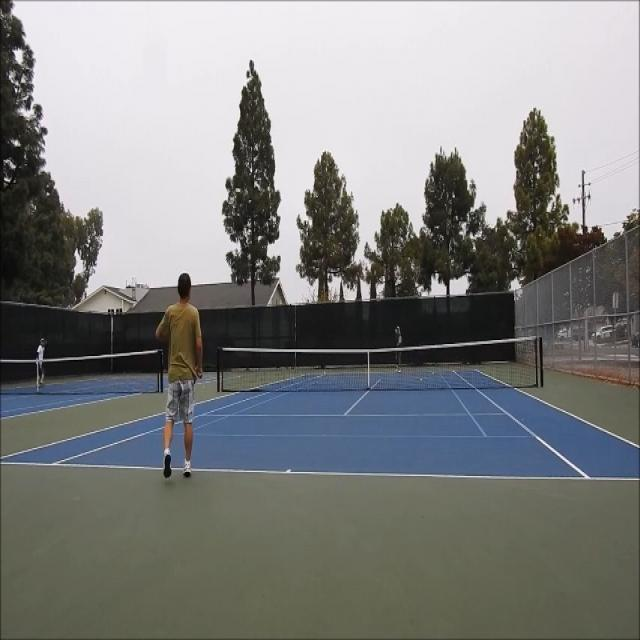court: (0, 370, 640, 480)
net: (216, 332, 544, 392)
player: (154, 271, 204, 477)
